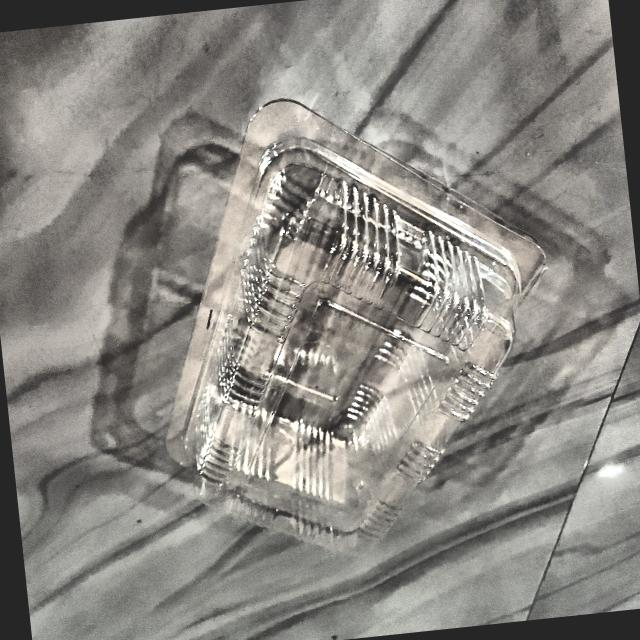plastic container: (131, 90, 568, 556)
